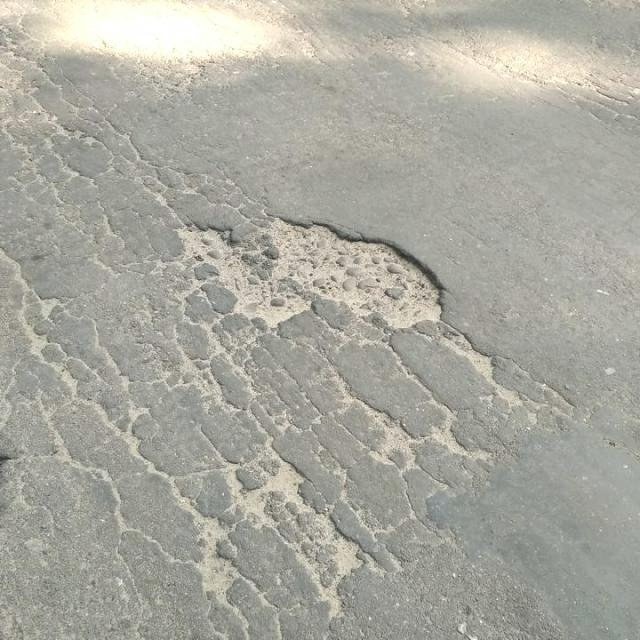Pothole: (174, 212, 452, 335)
